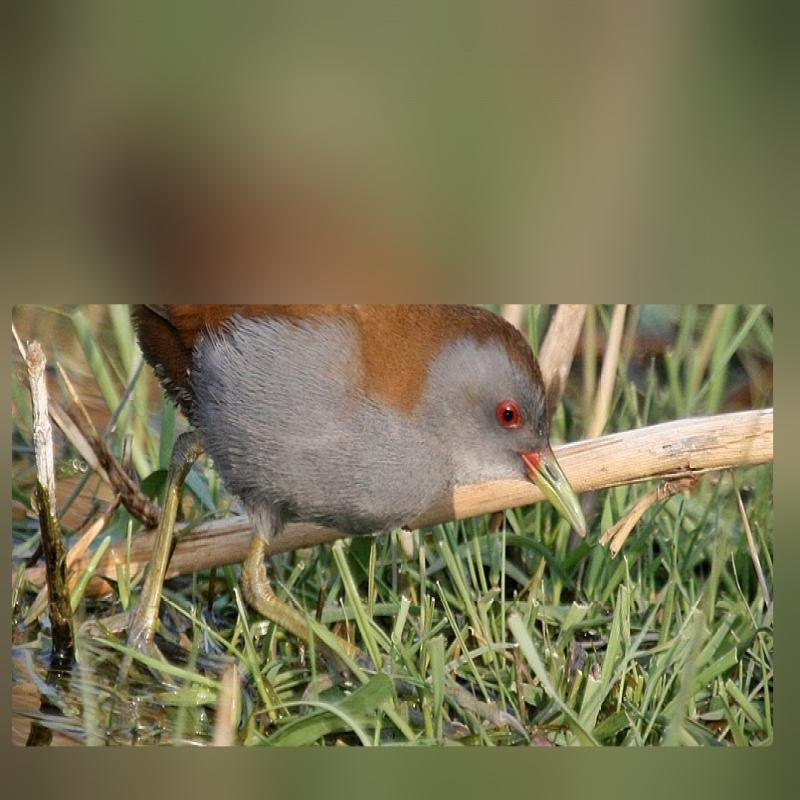little crake: (128, 295, 608, 578)
